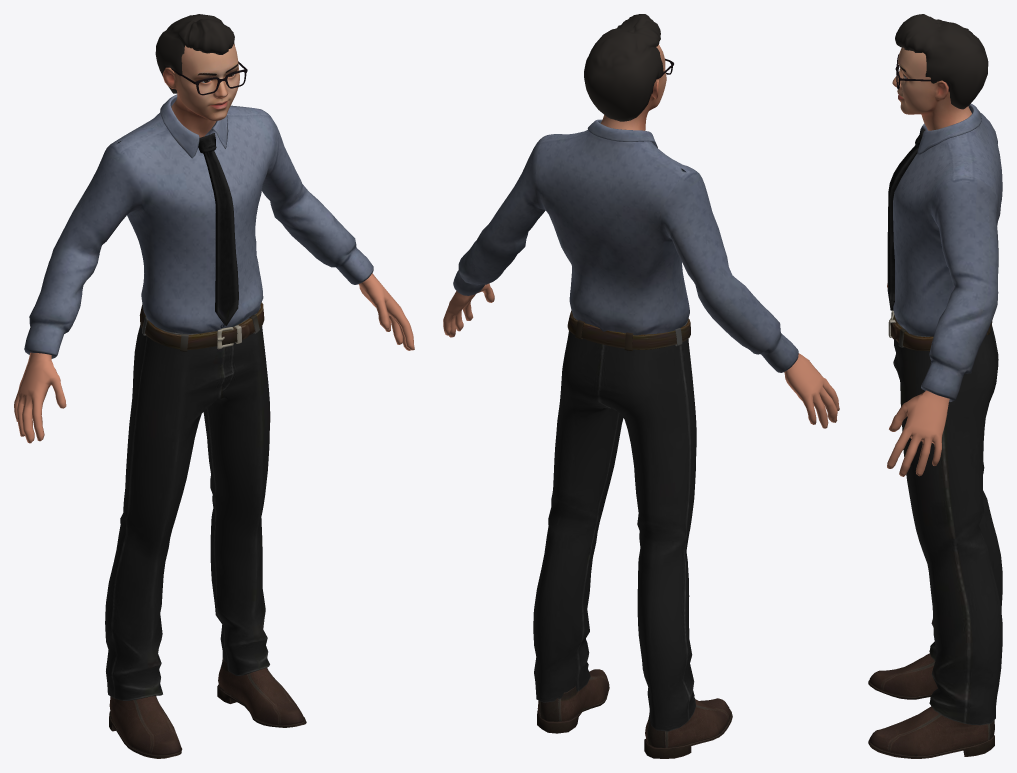
Rendered from character.fbx.
3 views of the same model, side by side, from view 1: azimuth 30°, elevation 25°; view 2: azimuth 150°, elevation 25°; view 3: azimuth 270°, elevation 25° (orthographic).
Parts seen in each view (by area): view 1: Wolf3D_Outfit_Top, Wolf3D_Outfit_Bottom, Wolf3D_Outfit_Footwear, Wolf3D_Head, Wolf3D_Body, Wolf3D_Hair; view 2: Wolf3D_Outfit_Bottom, Wolf3D_Outfit_Top, Wolf3D_Hair, Wolf3D_Outfit_Footwear, Wolf3D_Body, Wolf3D_Head; view 3: Wolf3D_Outfit_Bottom, Wolf3D_Outfit_Top, Wolf3D_Outfit_Footwear, Wolf3D_Hair, Wolf3D_Body, Wolf3D_Head.
Boxes of the visible parts, bbox=[...] form: Wolf3D_Outfit_Top: bbox=[24, 94, 373, 358]; Wolf3D_Outfit_Bottom: bbox=[105, 302, 270, 700]; Wolf3D_Outfit_Footwear: bbox=[109, 658, 306, 758]; Wolf3D_Head: bbox=[163, 44, 239, 137]; Wolf3D_Body: bbox=[14, 273, 414, 443]; Wolf3D_Hair: bbox=[155, 14, 234, 93]; Wolf3D_Outfit_Bottom: bbox=[533, 310, 696, 731]; Wolf3D_Outfit_Top: bbox=[453, 119, 798, 372]; Wolf3D_Hair: bbox=[584, 14, 663, 121]; Wolf3D_Outfit_Footwear: bbox=[537, 669, 732, 758]; Wolf3D_Body: bbox=[443, 283, 839, 428]; Wolf3D_Head: bbox=[601, 44, 666, 130]; Wolf3D_Outfit_Bottom: bbox=[888, 310, 1002, 725]; Wolf3D_Outfit_Top: bbox=[887, 104, 1002, 401]; Wolf3D_Outfit_Footwear: bbox=[868, 653, 994, 758]; Wolf3D_Hair: bbox=[895, 14, 988, 109]; Wolf3D_Body: bbox=[887, 283, 949, 476]; Wolf3D_Head: bbox=[892, 47, 971, 130].
Size of the model in its own units: 1.06 by 1.86 by 0.3229.
Materials: 9 (9 with a texture image).
